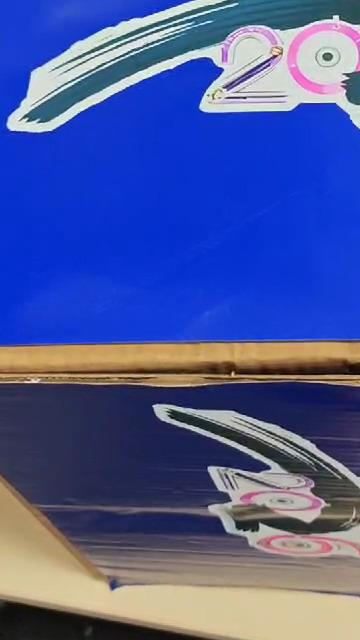B_R1: (21, 0, 360, 153)
